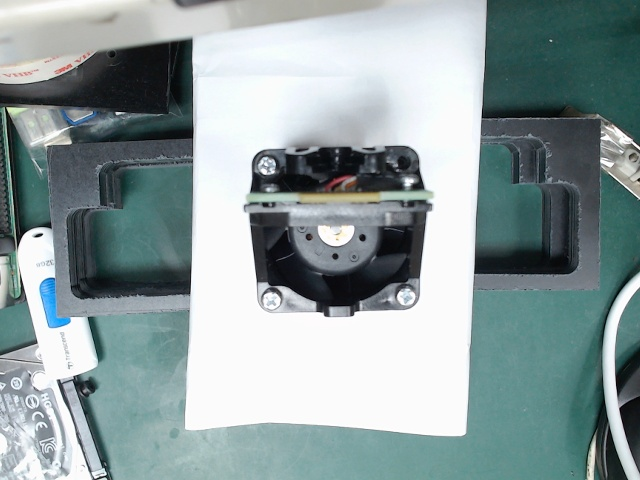Phase1_panel_screw_loose: (377, 160, 452, 228)
